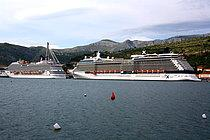Ship: (73, 44, 204, 83), (3, 49, 69, 82)
